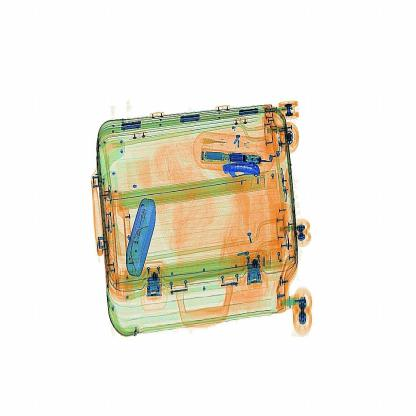knife: (219, 158, 273, 183)
